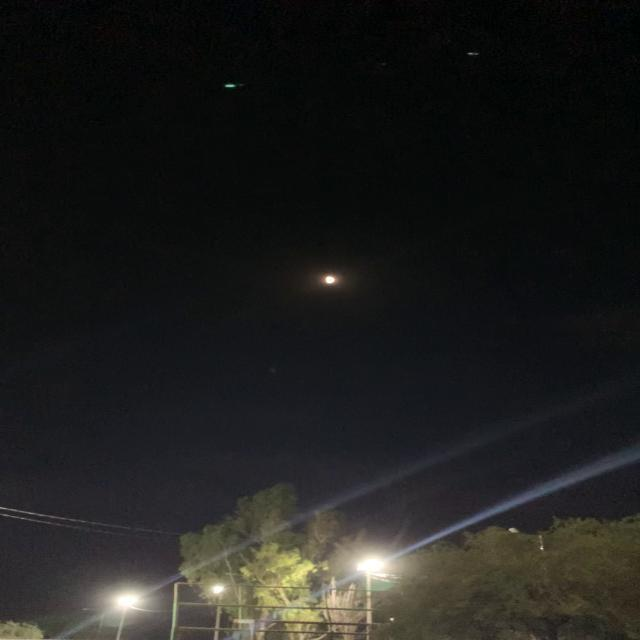moon: (321, 266, 345, 289)
